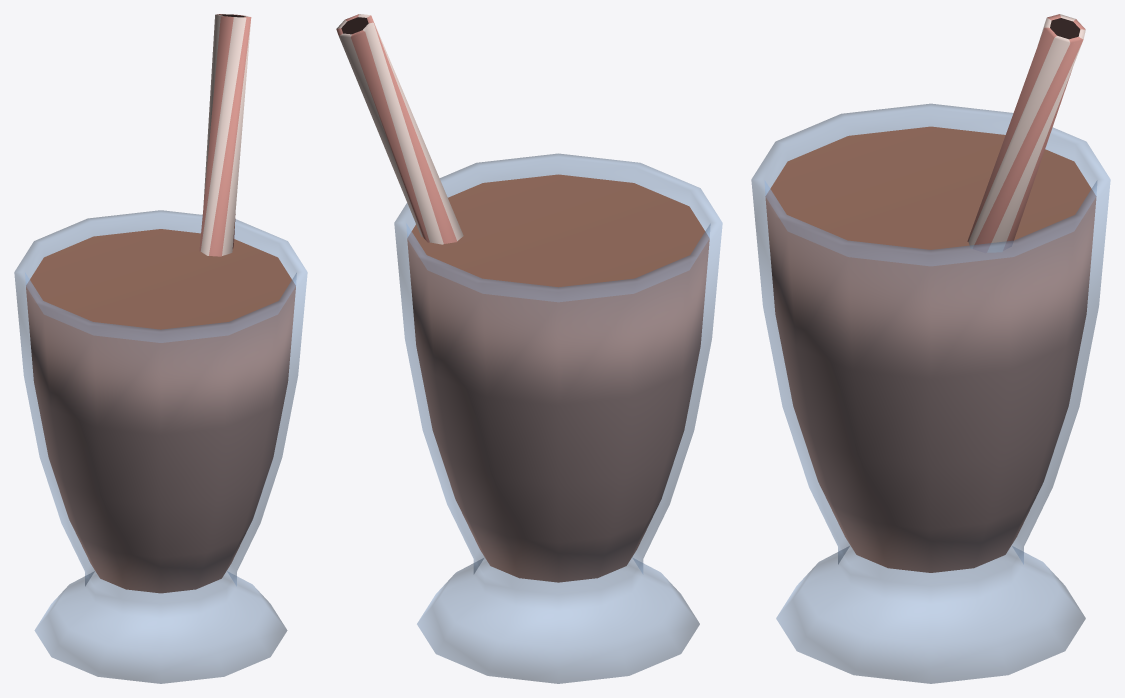
The model's file is ShakeShake.fbx.
3 views of the same model, side by side, from view 1: azimuth 30°, elevation 25°; view 2: azimuth 150°, elevation 25°; view 3: azimuth 270°, elevation 25° (orthographic). The views are drawn at different scales.
Visible parts, largest first — view 1: ShakeShake; view 2: ShakeShake; view 3: ShakeShake.
Part boxes in pixels (x1,y1,x2,y2): ShakeShake: (14,14,307,683); ShakeShake: (336,14,722,683); ShakeShake: (751,14,1110,683).
Bounding box in the file's own units: 102 × 200 × 96.93.
3 materials, 1 textured.
